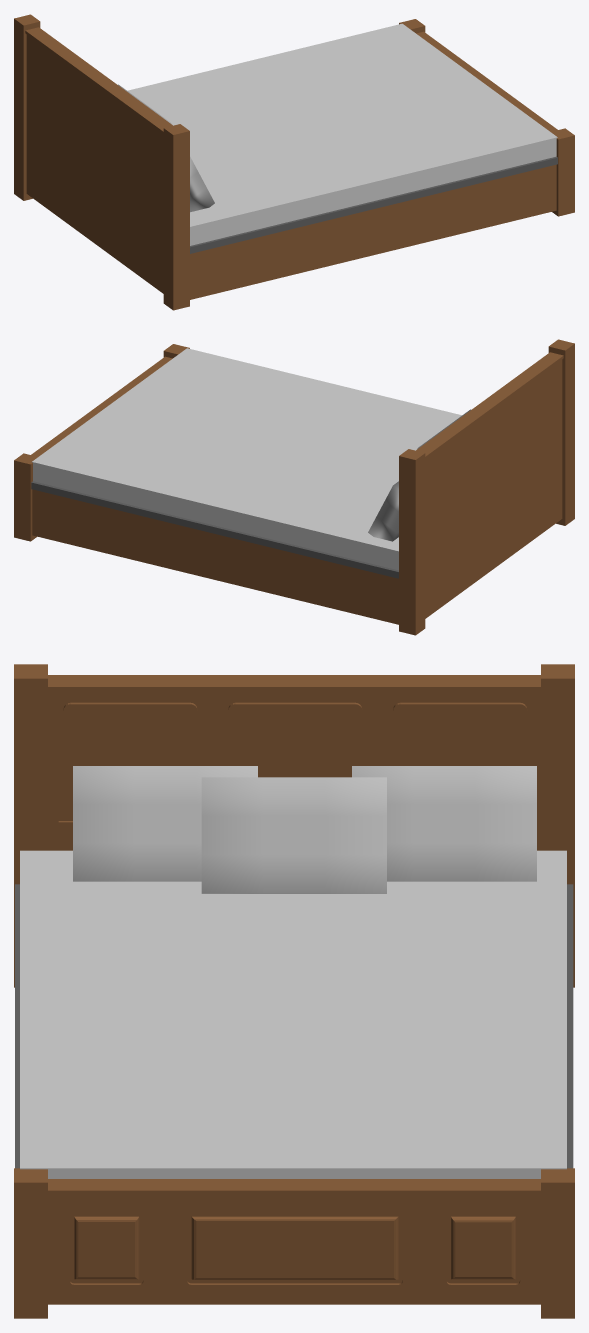
The model's file is bed.glb.
3 renders of one model, top to bottom at view 1: azimuth 30°, elevation 25°; view 2: azimuth 150°, elevation 25°; view 3: azimuth 270°, elevation 25°, orthographic. The views are drawn at different scales.
Parts seen in each view (by area): view 1: Cube.007, Cube.008, Cube.009; view 2: Cube.007, Cube.008, Cube.009; view 3: Cube.008, Cube.007, Cube.009.
Boxes of the visible parts, x1,y1,x2,y2 form: Cube.007: [14, 14, 574, 310]; Cube.008: [127, 23, 557, 245]; Cube.009: [118, 84, 214, 212]; Cube.007: [14, 339, 574, 635]; Cube.008: [31, 348, 461, 570]; Cube.009: [368, 409, 470, 541]; Cube.008: [20, 850, 566, 1178]; Cube.007: [14, 664, 574, 1318]; Cube.009: [73, 766, 536, 893].
Bounding box in the file's own units: 4.8 × 2 × 3.3.
